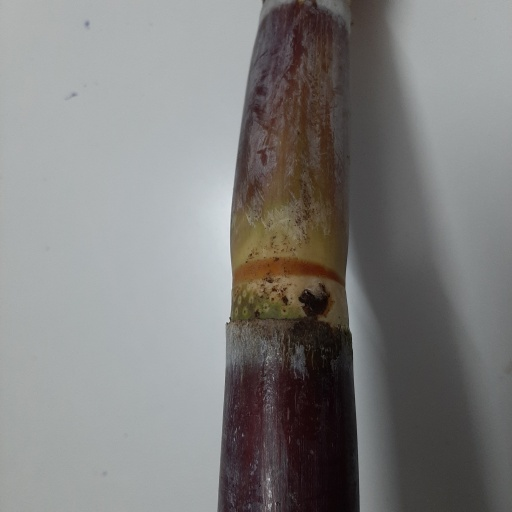Damage_Bud: (298, 282, 331, 321)
